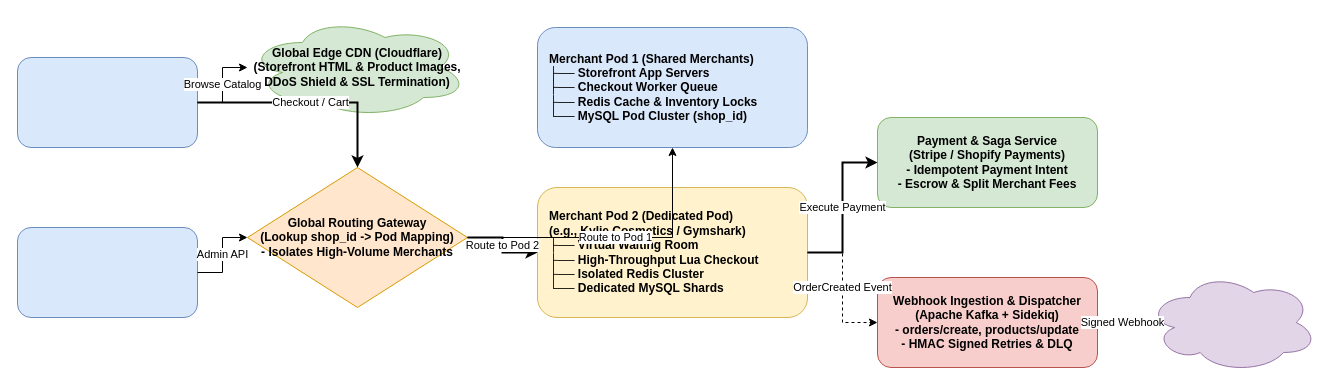
This 1335x390 diagram has some shape labels left out. Here are the shapes that lost their labels. From the top down, the box of each, then its label:
(16, 56, 198, 148): Shoppers & Mobile Buyers (Browse Storefront, Cart & Flash Checkout)
(16, 226, 198, 318): Merchants & Store Admins (Product Admin, Inventory, Orders & Analytics)
(1146, 272, 1318, 372): 3rd-Party App Ecosystem (ERP, Fulfillment, Dropshipping) - Webhook Receivers
